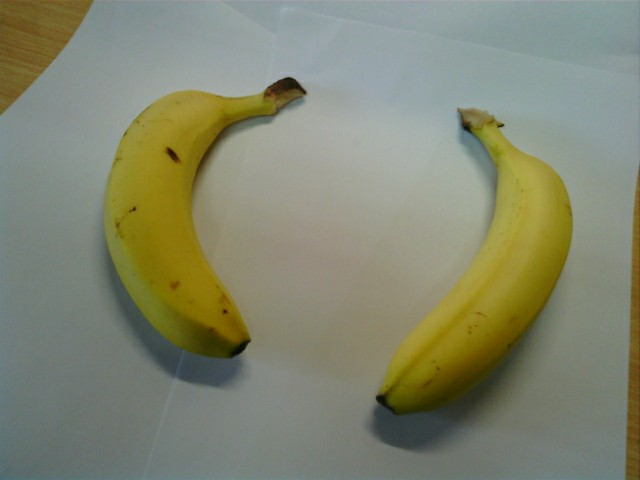fresh_banana: (377, 111, 575, 411)
normal_banana: (103, 83, 264, 362)
